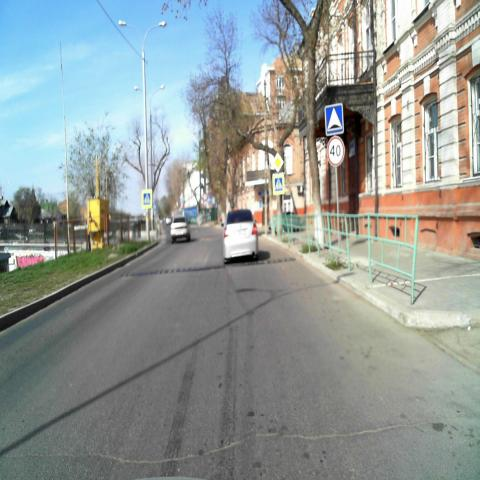5_20: (325, 104, 344, 136)
